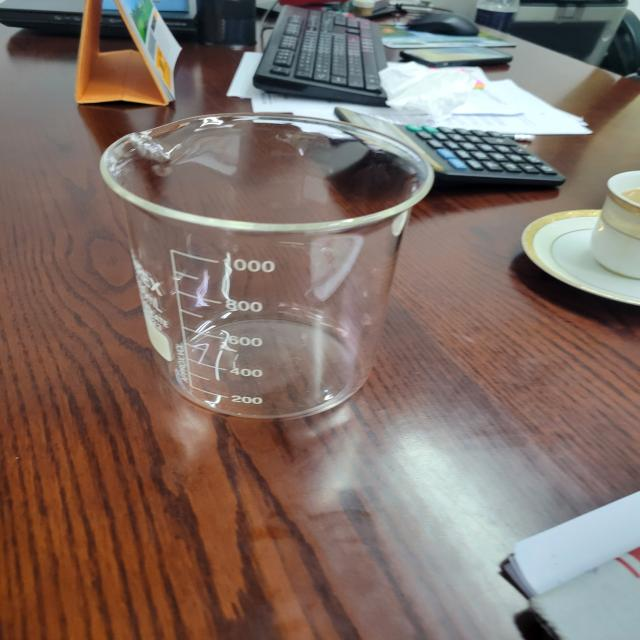Beaker: (87, 102, 443, 436)
